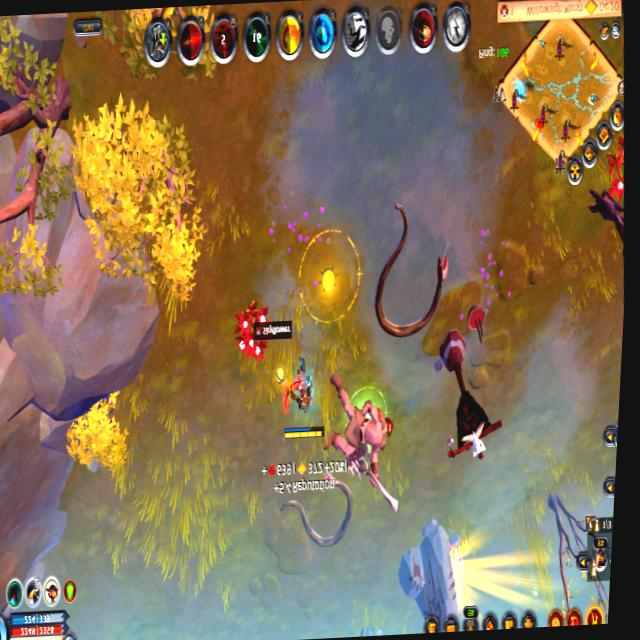hide: (227, 289, 280, 366), (598, 132, 628, 216), (361, 618, 394, 636)
red: (270, 354, 330, 452)
